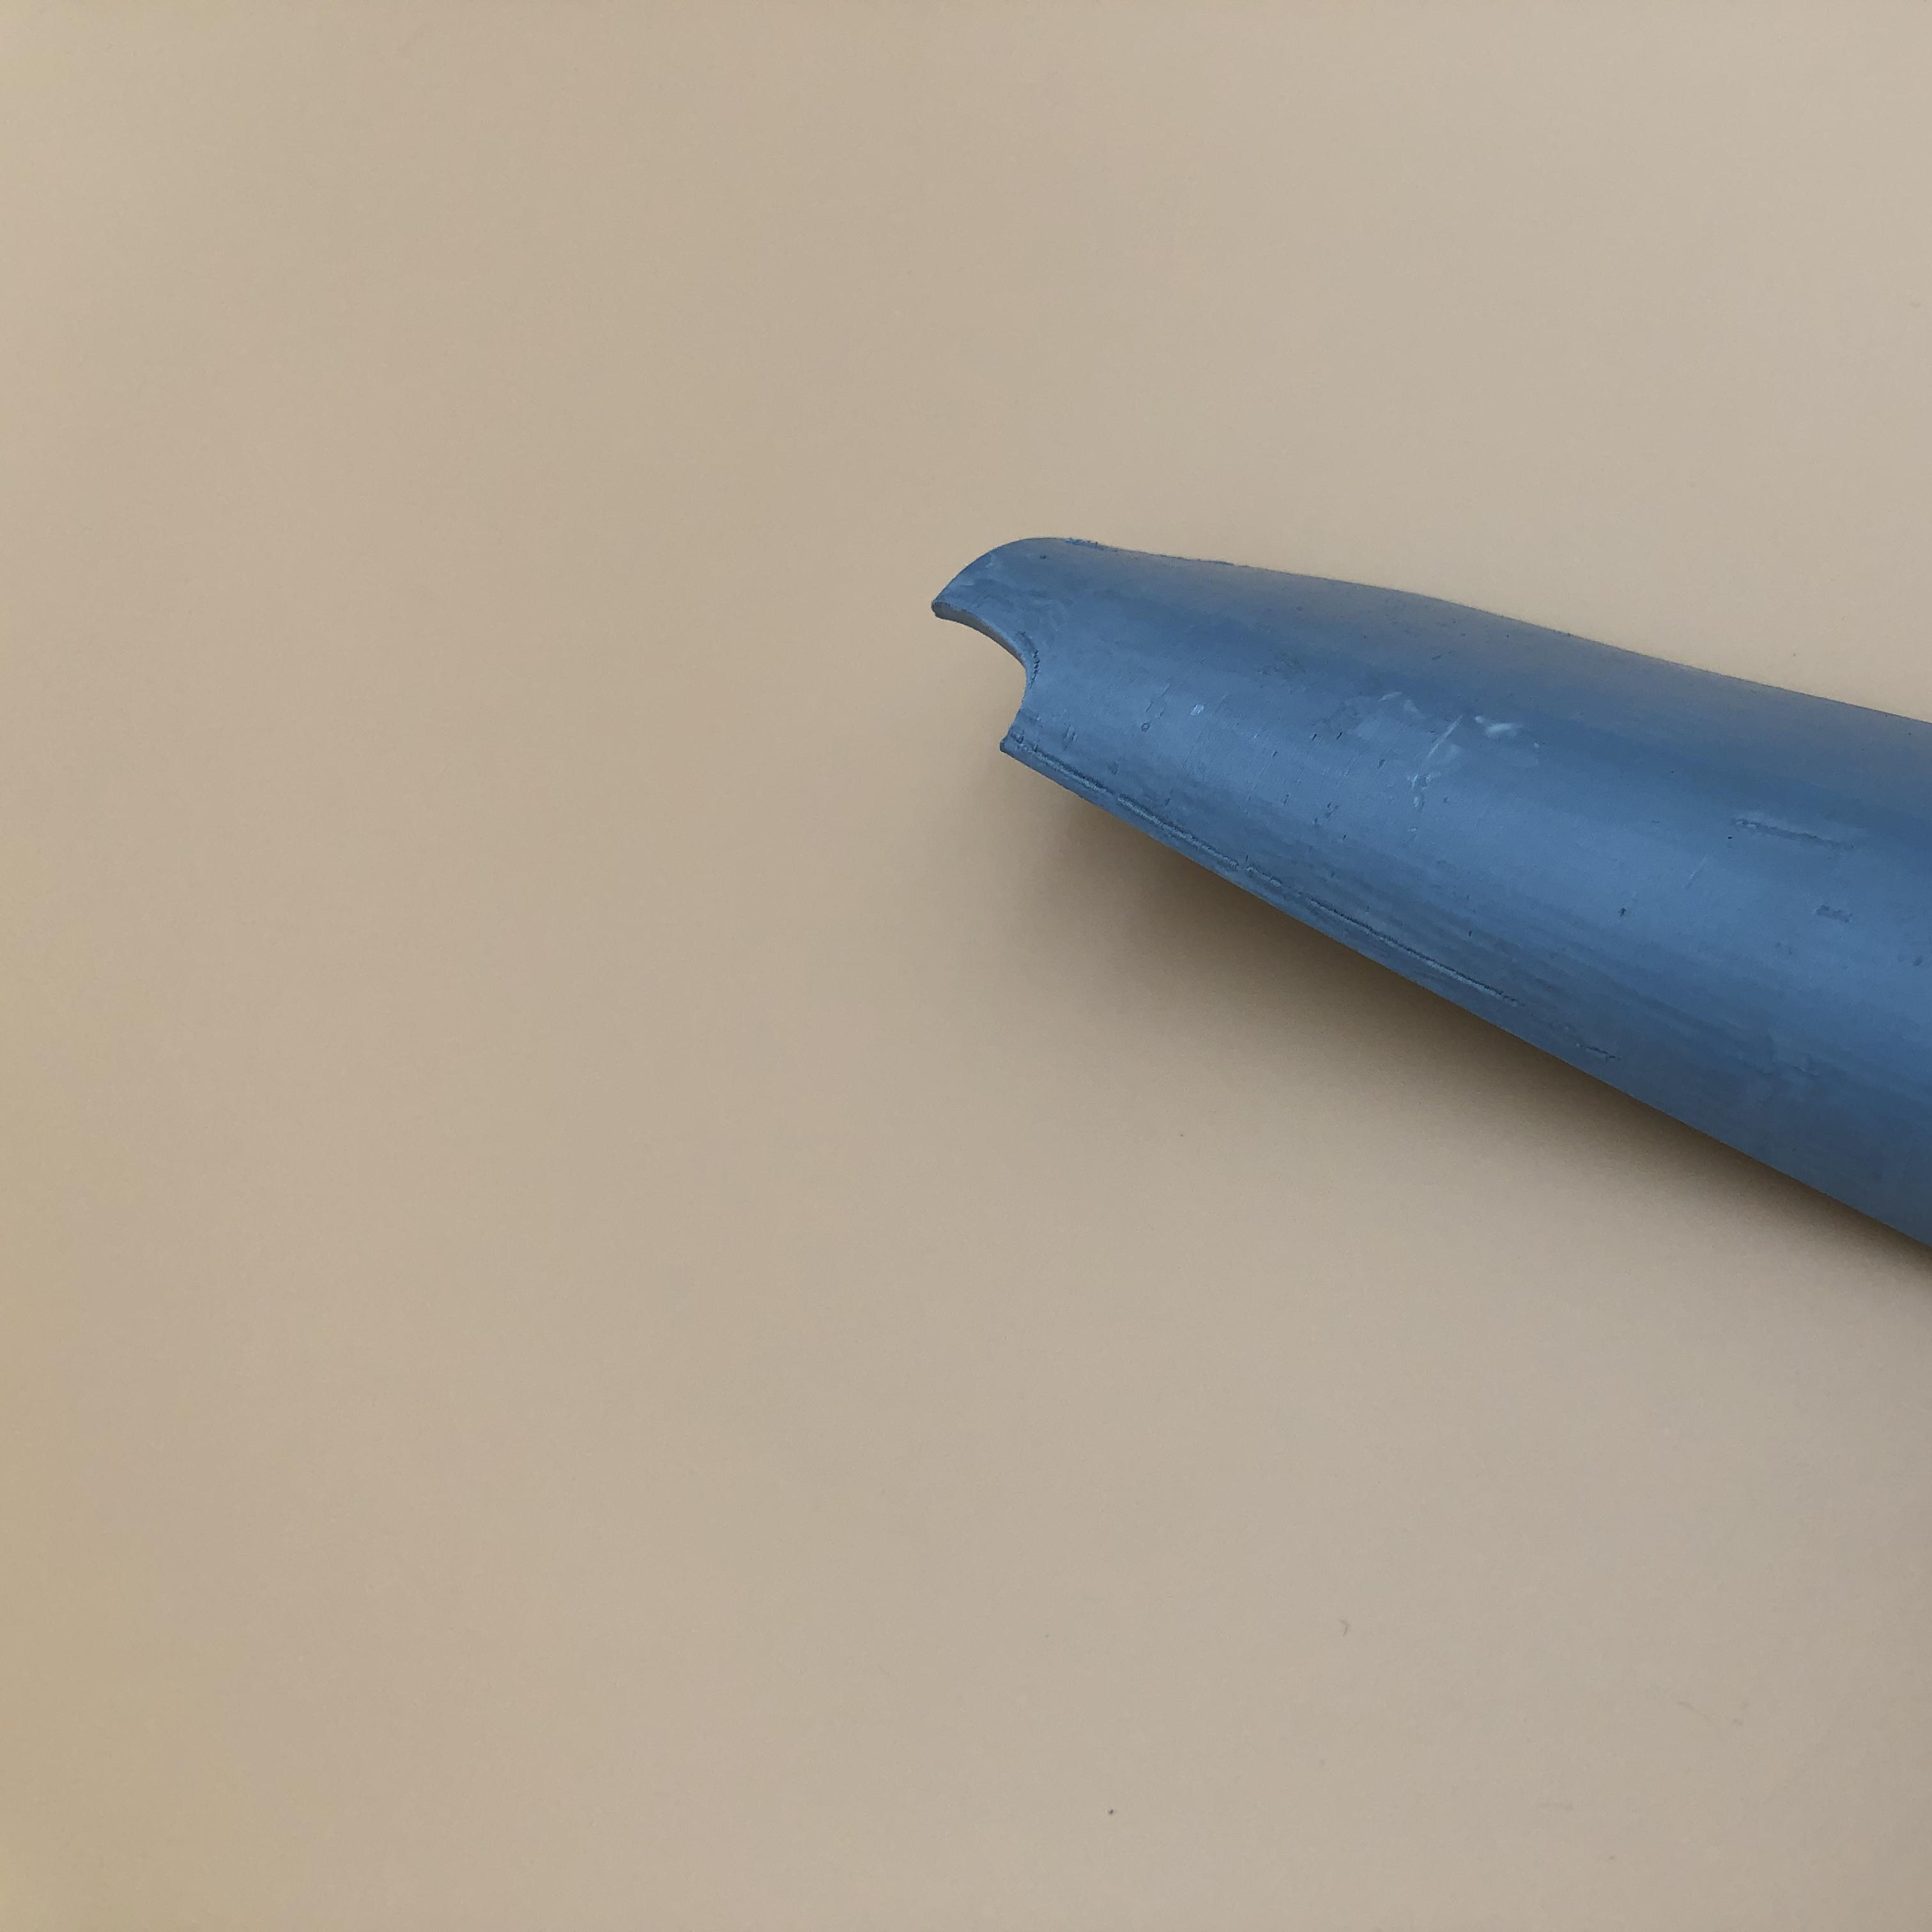fracture: (929, 605, 1079, 745)
